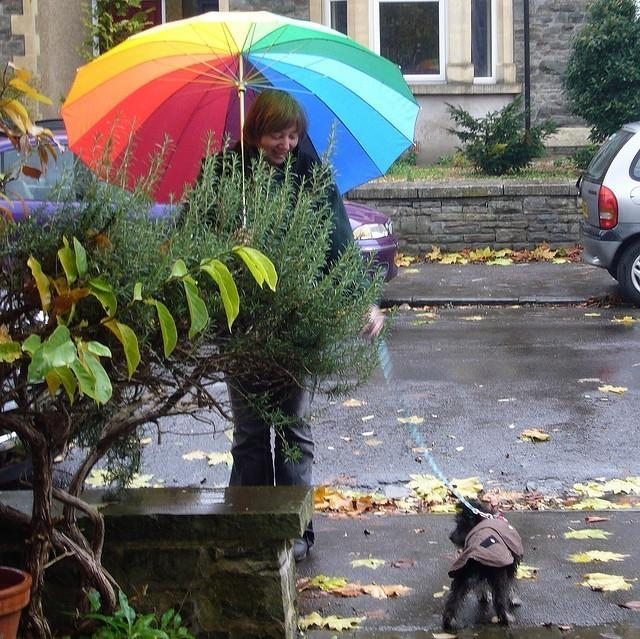car: (574, 112, 640, 306), (341, 198, 399, 283)
